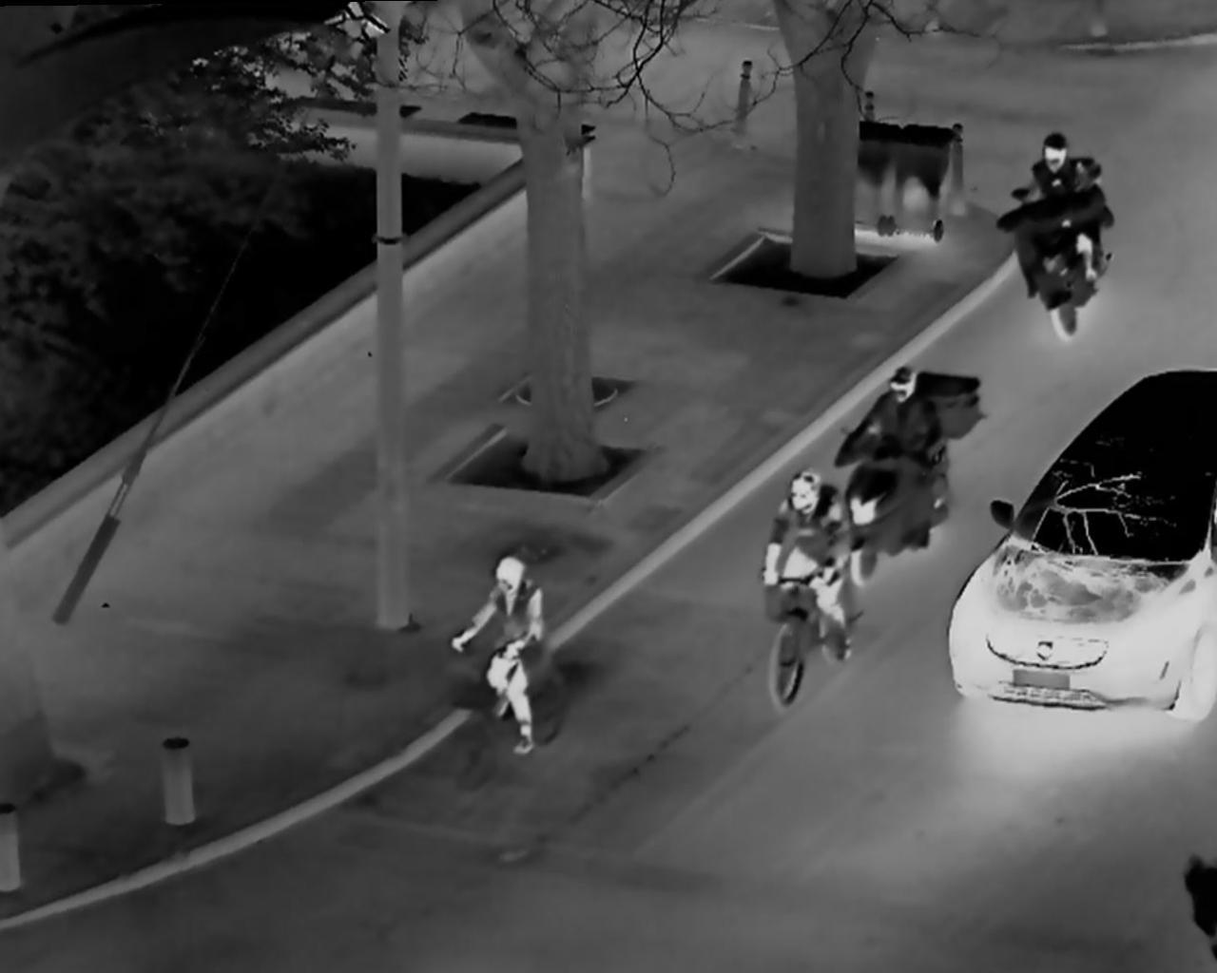person: (749, 466, 862, 698), (1009, 118, 1116, 354), (453, 549, 571, 761), (840, 345, 948, 560)
